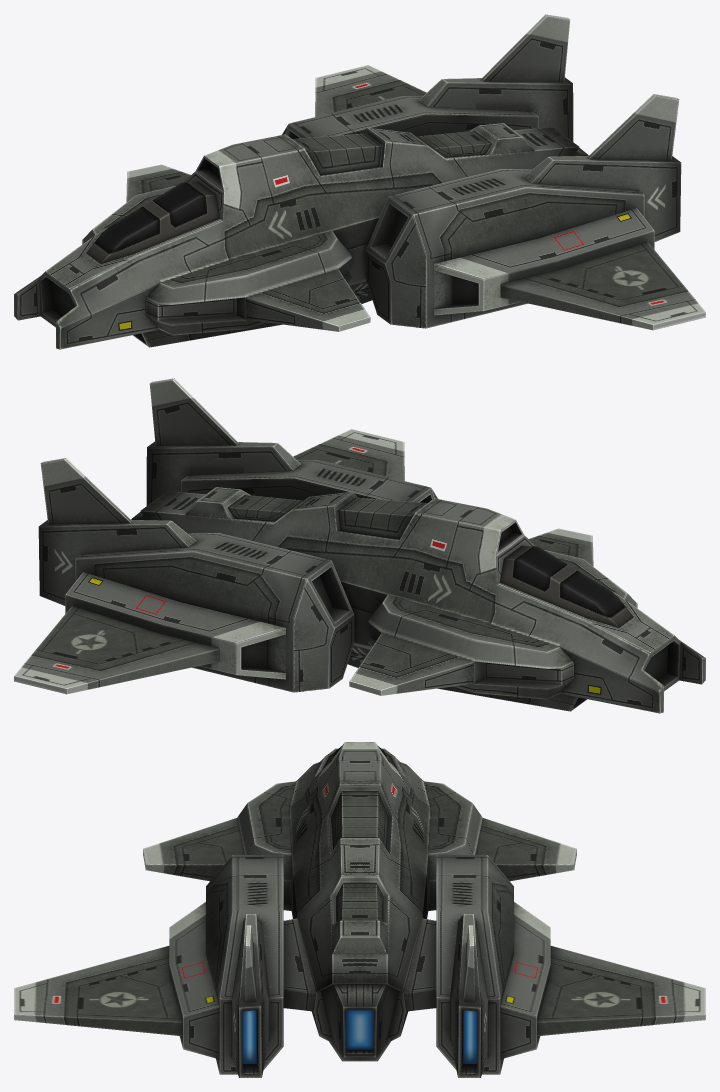
File: space_frigate_3.FBX
3 renders of one model, top to bottom at view 1: azimuth 30°, elevation 25°; view 2: azimuth 150°, elevation 25°; view 3: azimuth 270°, elevation 25°, orthographic. The views are drawn at different scales.
Parts seen in each view (by area): view 1: space_frigate_3; view 2: space_frigate_3; view 3: space_frigate_3.
Part boxes in pixels (x1,y1,x2,y2): space_frigate_3: (14,14,705,349); space_frigate_3: (14,378,705,713); space_frigate_3: (14,742,705,1077).
Bounding box in the file's own units: 45.62 × 13.4 × 45.44.
1 material, 1 textured.
